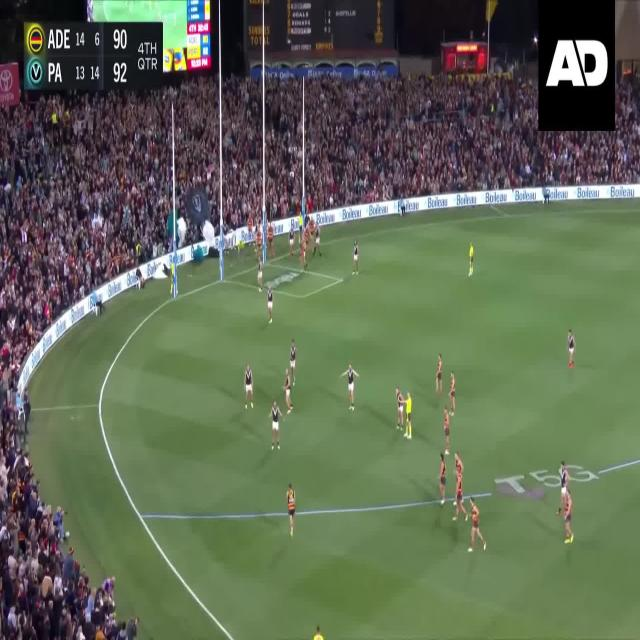crowd: (1, 66, 640, 636)
